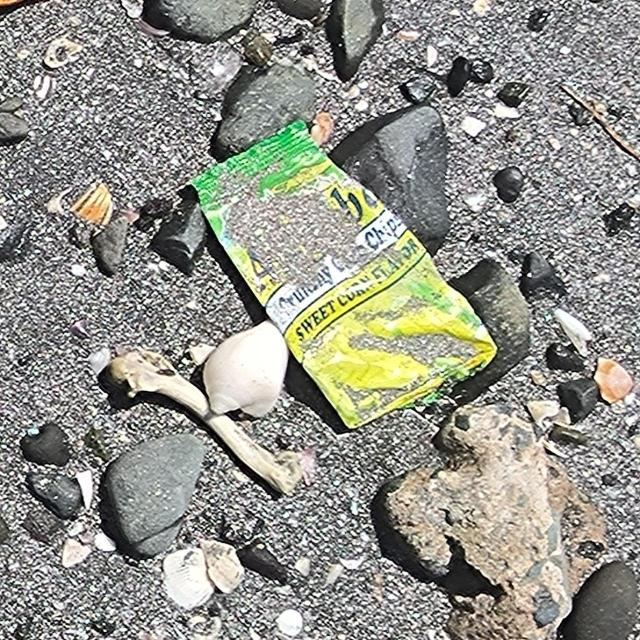plastic_waste: (186, 120, 499, 432)
